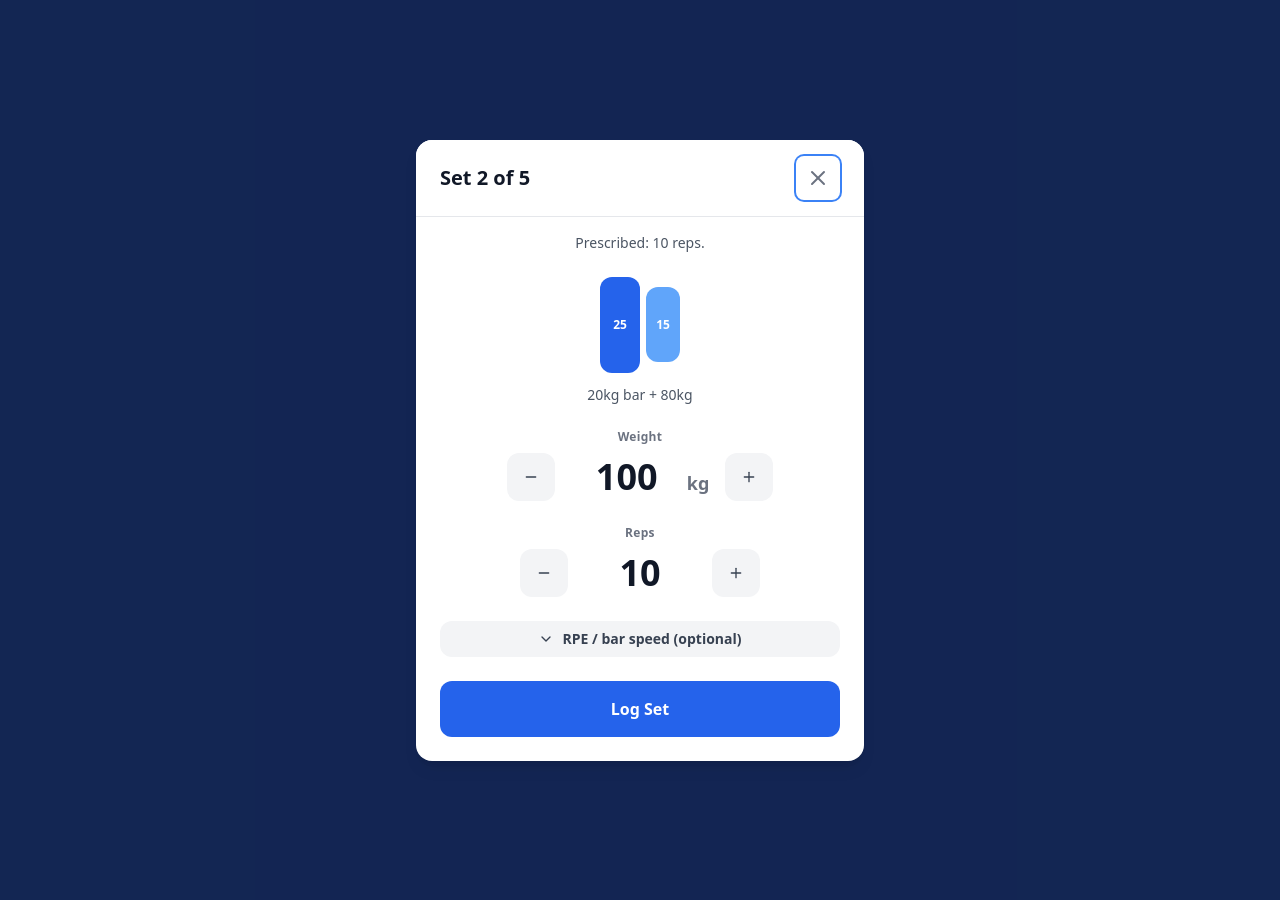
Test case: WorkingSetModal › steps by 2.5 in kg mode
Click the button named "Increase weight". click: [749, 476]
box: x1=725 y1=452 x2=773 y2=500
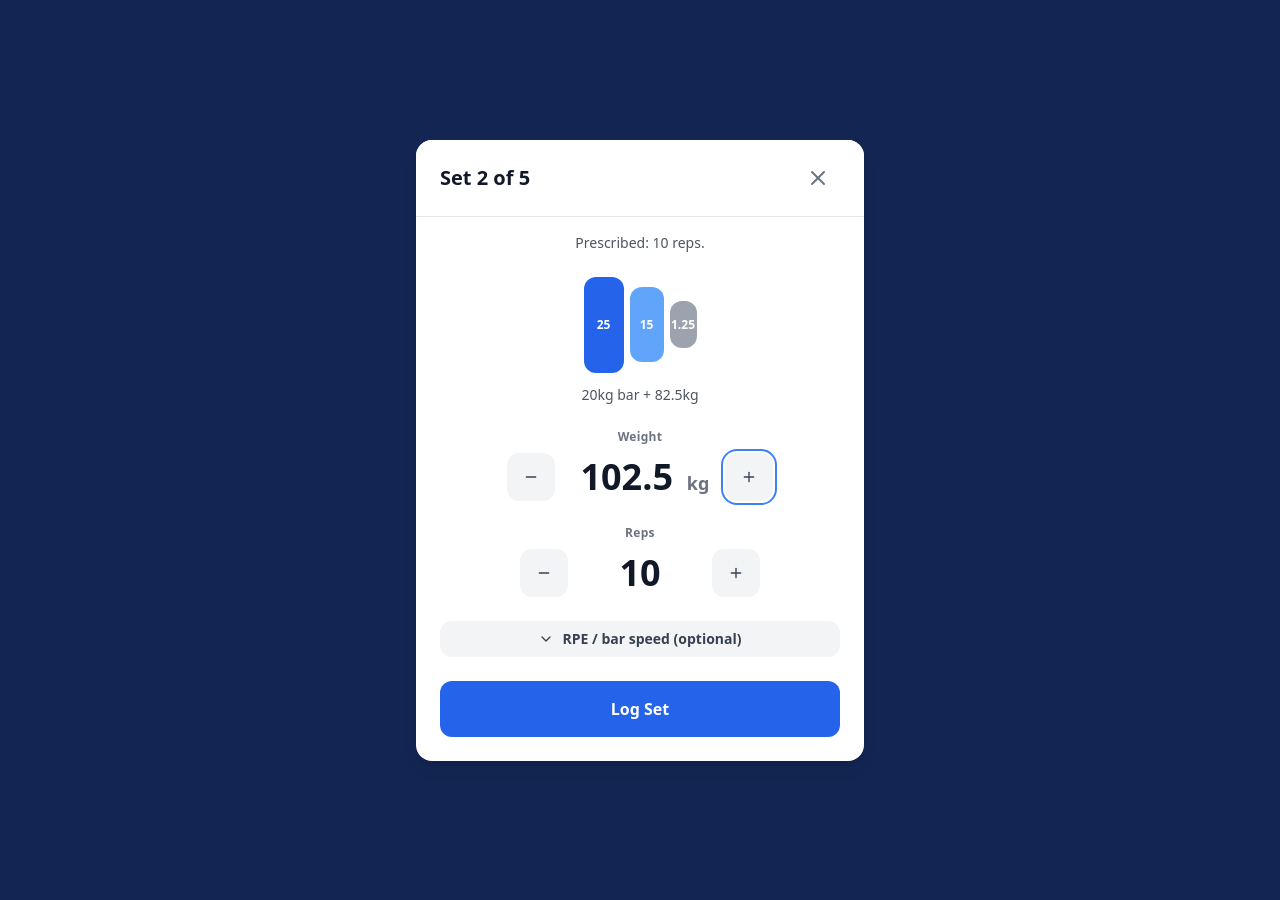
Expected: the number field named "Weight" holds "102.5", x1=571 y1=454 x2=683 y2=498
